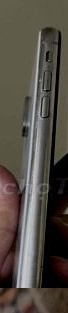scratch: (38, 39, 68, 51)
